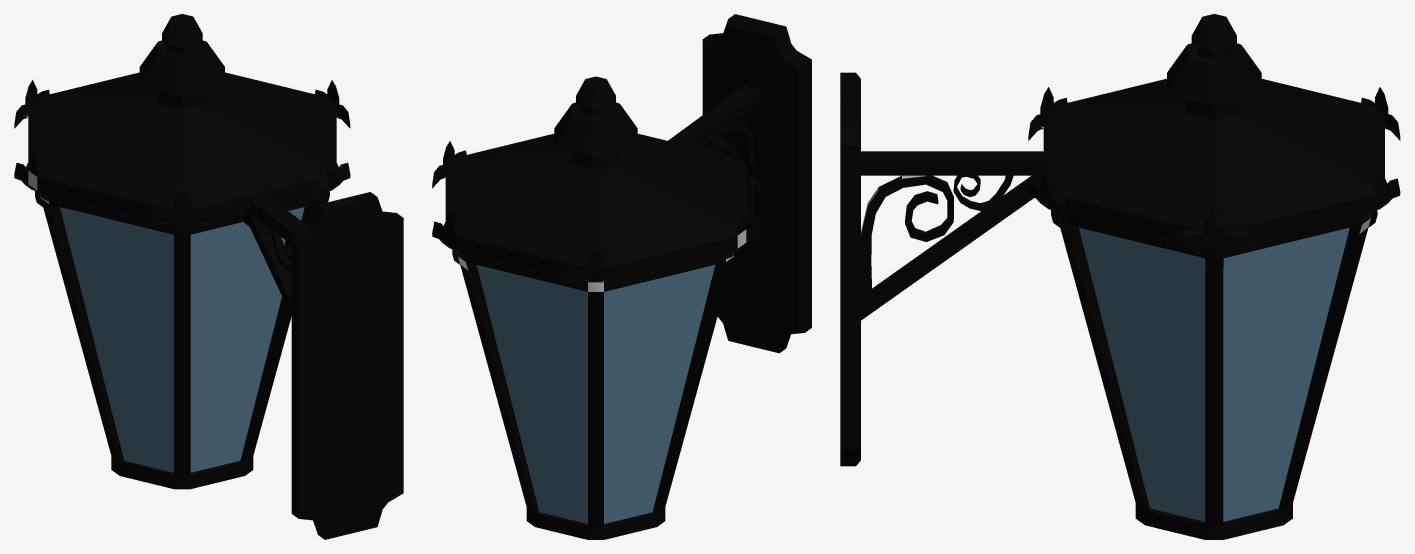
The model's file is wallLamp_new.obj.
3 renders of one model, left to right at view 1: azimuth 30°, elevation 25°; view 2: azimuth 150°, elevation 25°; view 3: azimuth 270°, elevation 25°, orthographic. The views are drawn at different scales.
Visible parts, largest first — view 1: lamp; view 2: lamp; view 3: lamp.
Boxes of the visible parts, x1,y1,x2,y2 form: lamp: (14, 14, 403, 539); lamp: (432, 14, 811, 539); lamp: (840, 14, 1400, 539).
Size of the model in its own units: 0.4676 by 0.6358 by 0.6667.
